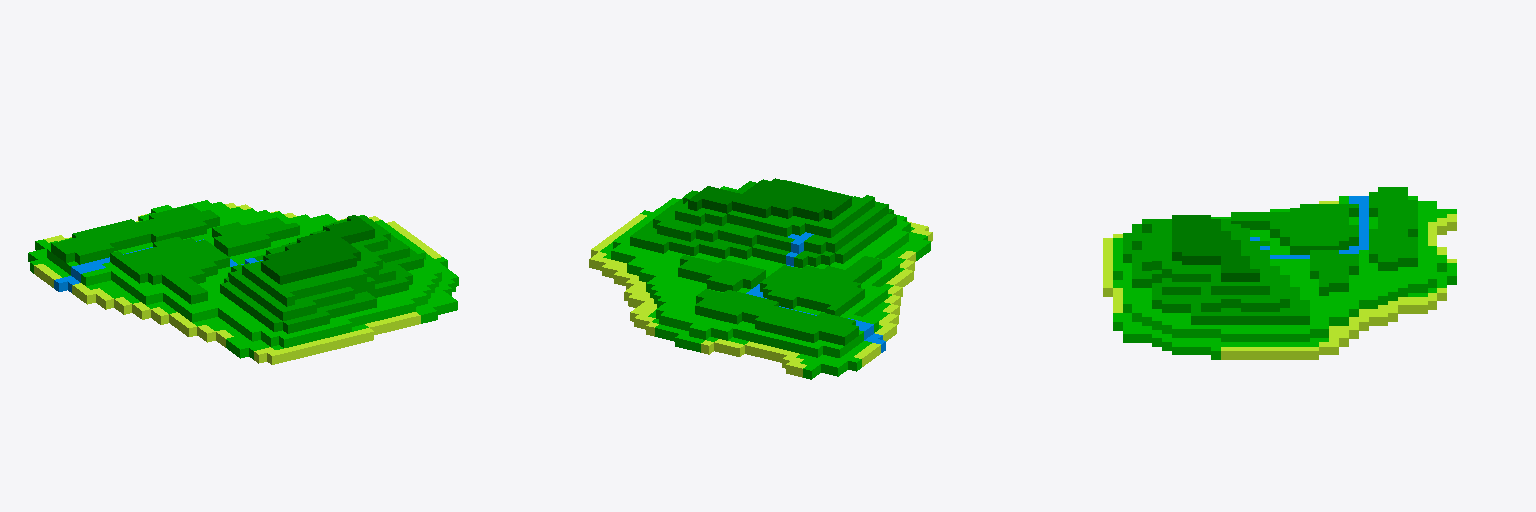
The picture shows the model from 3 angles: view 1: azimuth 30°, elevation 25°; view 2: azimuth 150°, elevation 25°; view 3: azimuth 270°, elevation 25°; orthographic projection.
Parts seen in each view (by area): view 1: object 1; view 2: object 1; view 3: object 1.
Boxes of the visible parts, box(x1,y1,x2,y2) form: object 1: box(28, 200, 458, 364); object 1: box(589, 178, 932, 379); object 1: box(1103, 187, 1456, 359).
Size of the model in its own units: 3.7 by 0.6 by 3.6.
Materials: 1 (1 with a texture image).